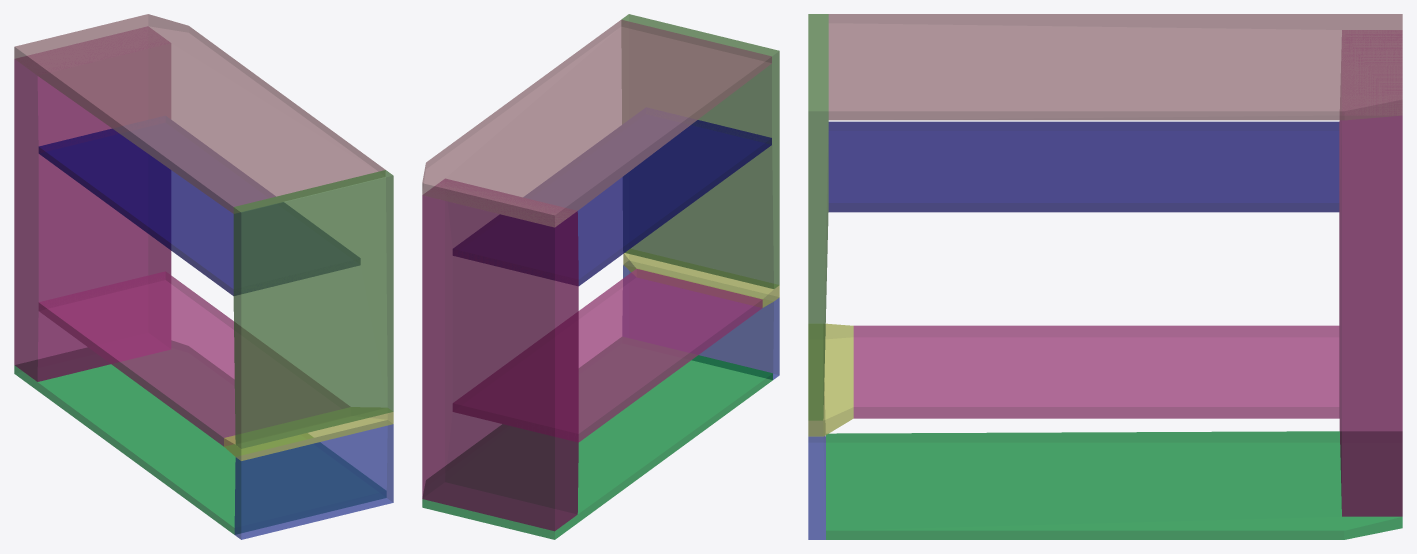
File: OvenArea.obj
3 renders of one model, left to right at view 1: azimuth 30°, elevation 25°; view 2: azimuth 150°, elevation 25°; view 3: azimuth 270°, elevation 25°, orthographic. The views are drawn at different scales.
Visible parts, largest first — view 1: Shape_IndexedFaceSet_Shape_IndexedFaceSet.062; view 2: Shape_IndexedFaceSet_Shape_IndexedFaceSet.062; view 3: Shape_IndexedFaceSet_Shape_IndexedFaceSet.062.
Part boxes in pixels (<box>): Shape_IndexedFaceSet_Shape_IndexedFaceSet.062: <box>14,14,393,539</box>; Shape_IndexedFaceSet_Shape_IndexedFaceSet.062: <box>422,14,779,539</box>; Shape_IndexedFaceSet_Shape_IndexedFaceSet.062: <box>808,14,1402,539</box>.
Size of the model in its own units: 0.5872 by 1.21 by 1.52.
